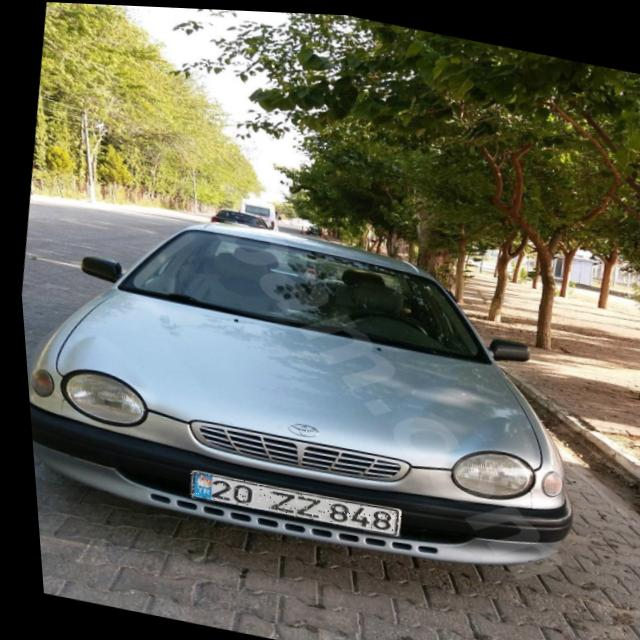license_plate: (179, 468, 396, 535)
